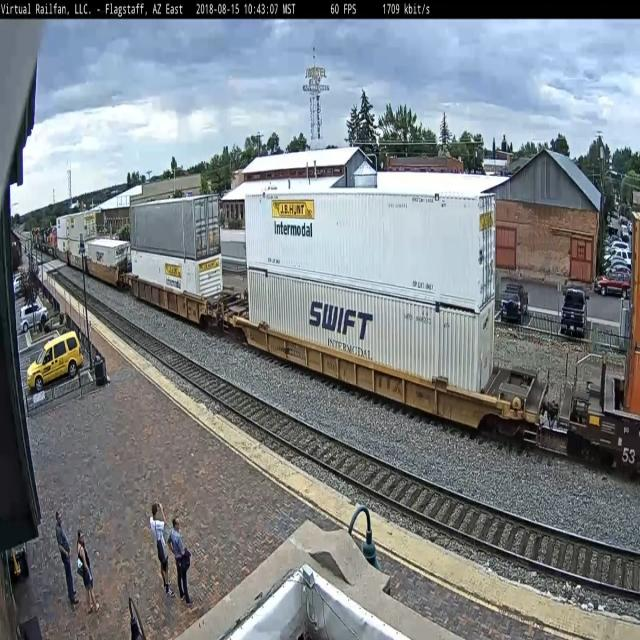container: (246, 265, 495, 403), (243, 186, 498, 318), (128, 191, 222, 265), (130, 246, 224, 298)
flatcar: (238, 315, 525, 454), (126, 270, 229, 336)
